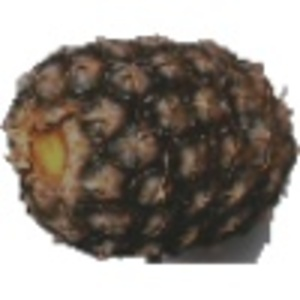abacaxi: (3, 27, 295, 260)
